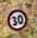limite 30: (5, 7, 28, 31)
